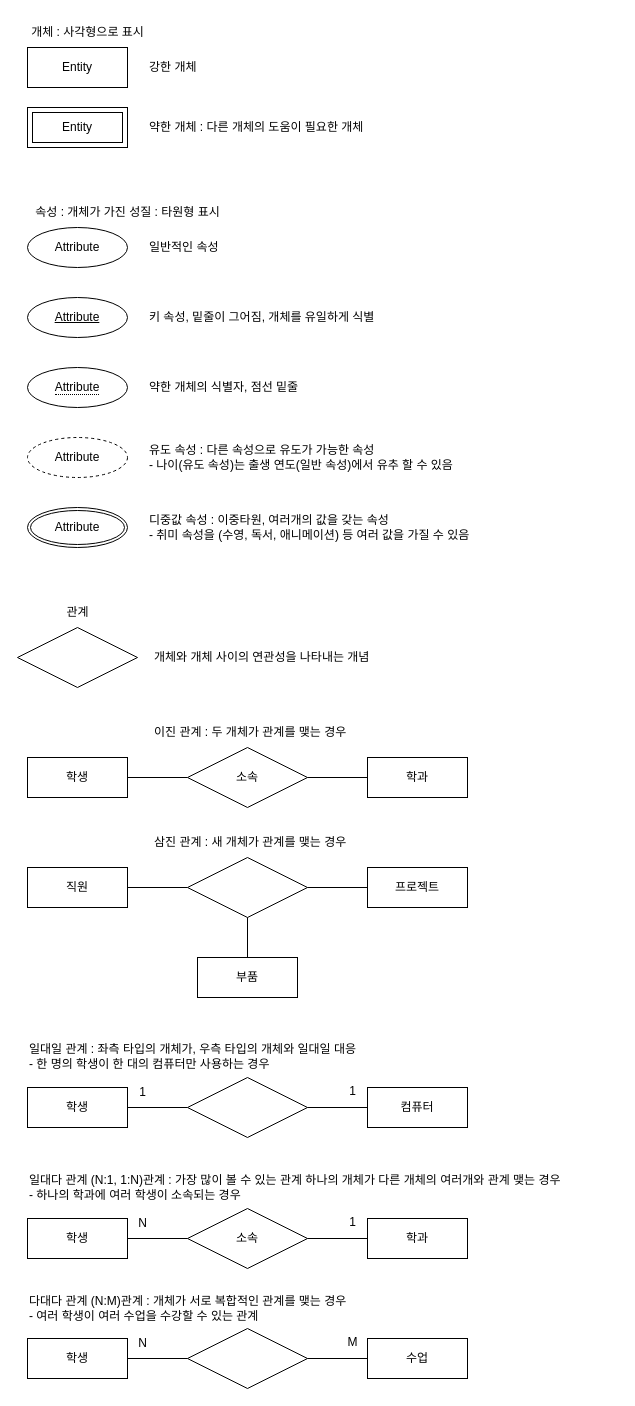
This 635x1406 diagram has some shape labels left out. Here are the shapes that lost their labels. From the top down, the centre of each, then its label:
At (x=77, y=657): "Relationship".
At (x=247, y=887): "수행".
At (x=247, y=1107): "사용".
At (x=247, y=1358): "수강".
